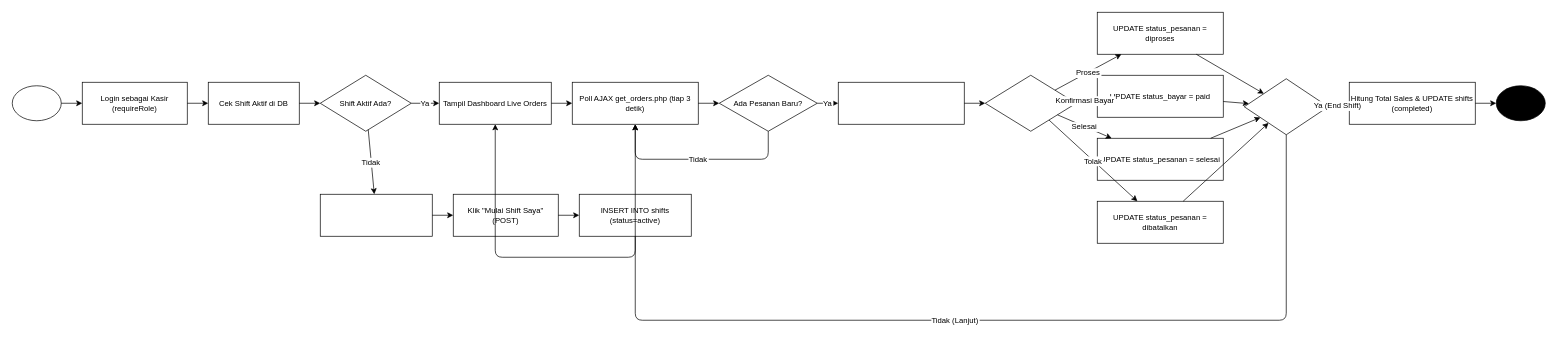
The diagram is 1558 pixels wide and 338 high, and some of its shapes have lost their labels. Each missing label, with the centre of its shape:
"END" belongs at pixel 1520 103.
"End Shift?" belongs at pixel 1286 106.
"Kasir Pilih Aksi" belongs at pixel 1030 103.
"Mainkan Alert Audio & Render Kartu Pesanan" belongs at pixel 901 103.
"START" belongs at pixel 36 103.
"Tampil Layar Kunci (Shift Ditutup)" belongs at pixel 376 215.
